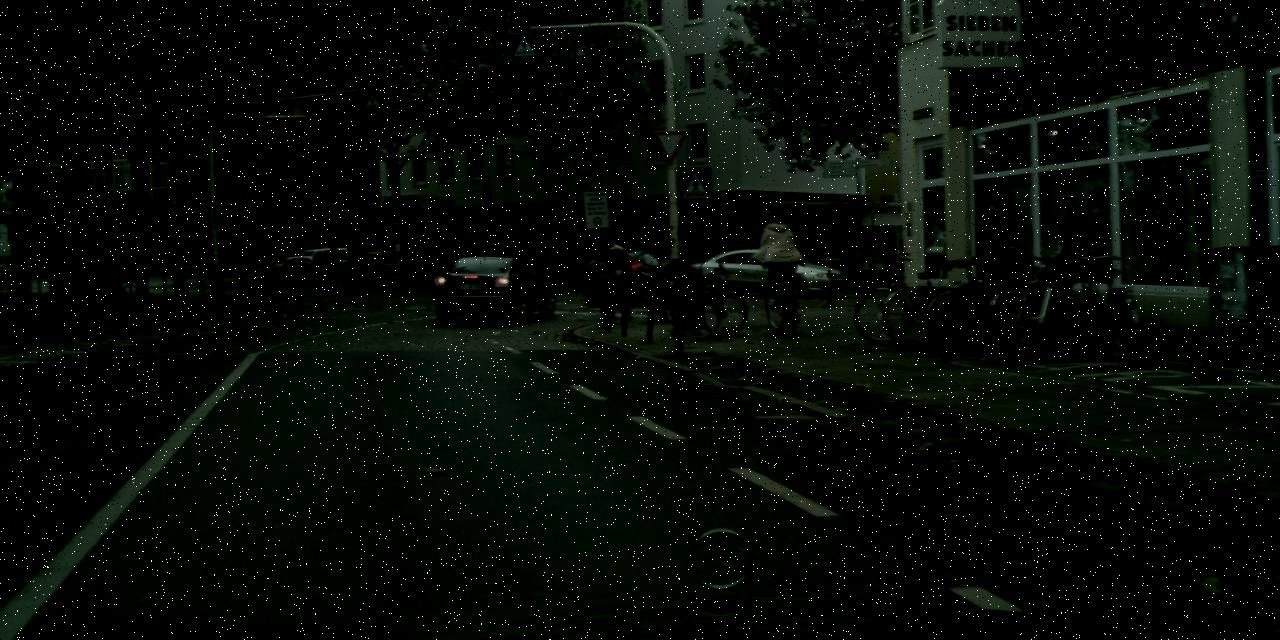ped: (761, 210, 800, 308), (606, 237, 630, 299), (547, 242, 560, 275), (316, 250, 325, 274)
